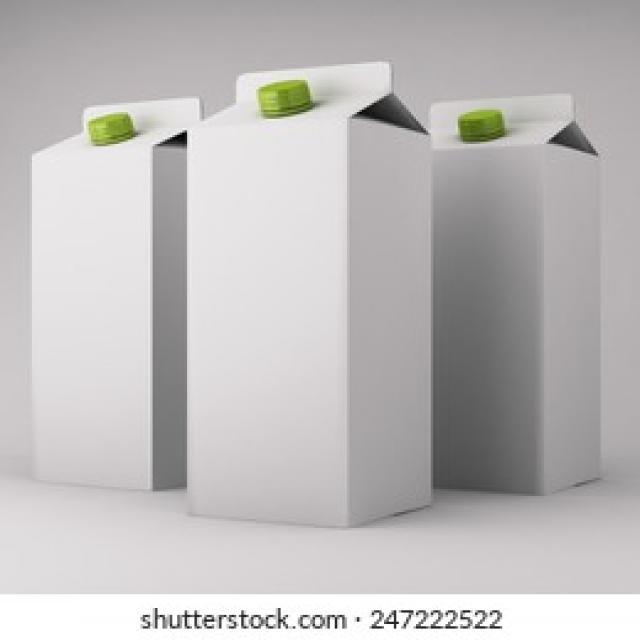Carton: (180, 61, 434, 529), (21, 86, 229, 508), (426, 86, 608, 497)
